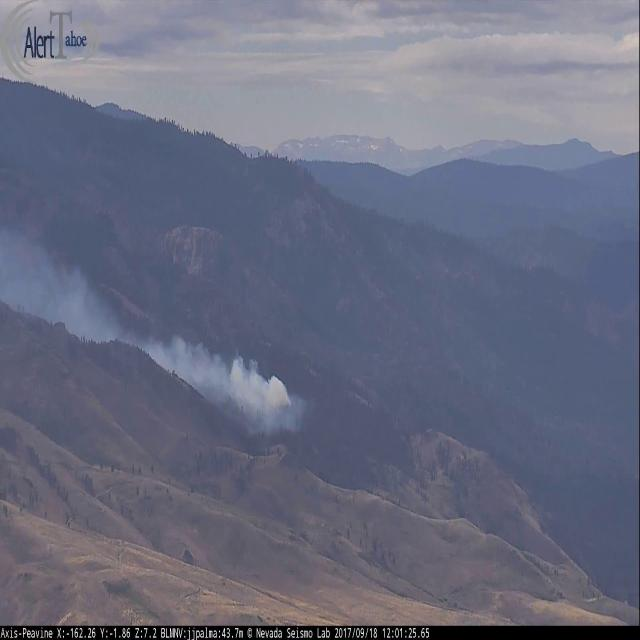smoke: (1, 213, 318, 458)
